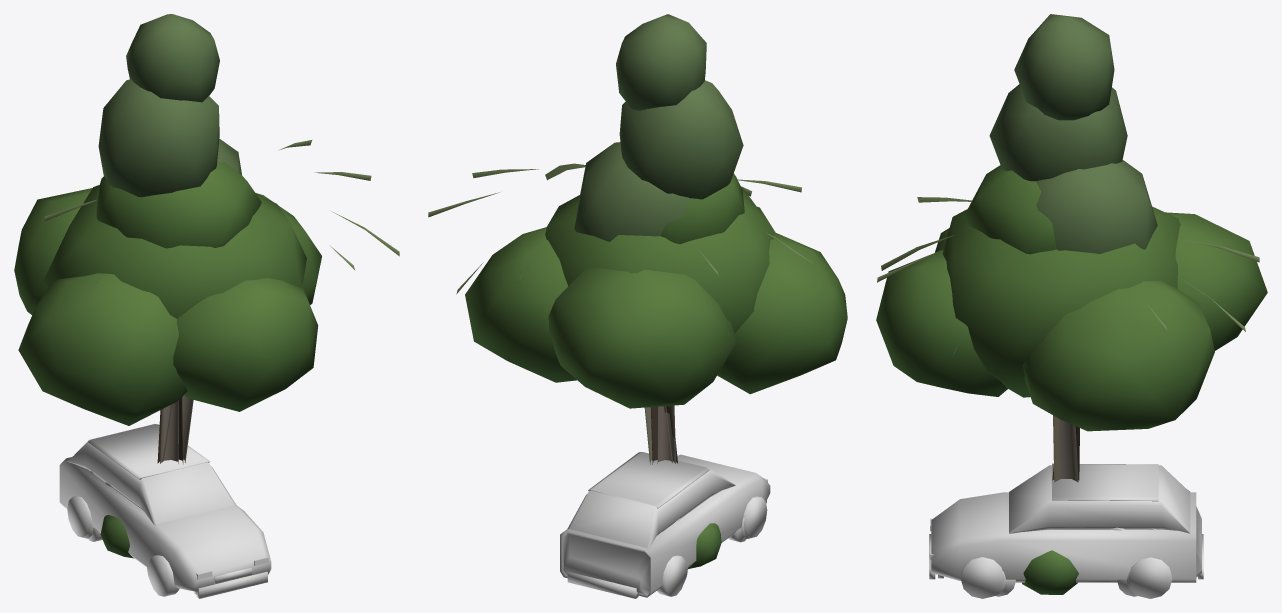
The model's file is world.glb.
3 renders of one model, left to right at view 1: azimuth 30°, elevation 25°; view 2: azimuth 150°, elevation 25°; view 3: azimuth 270°, elevation 25°, orthographic. The views are drawn at different scales.
Parts seen in each view (by area): view 1: Tree1, Tree2, Car2_Body, Car2_Glass, Car2_Trim, Tree3, Bush; view 2: Tree1, Tree2, Car2_Body, Car2_Glass, Car2_Trim, Tree3, Bush; view 3: Tree1, Tree2, Car2_Body, Car2_Glass, Car2_Trim, Tree3, Bush.
Part boxes in pixels (x1,y1,x2,y2): Tree1: (14, 162, 321, 464); Tree2: (98, 14, 241, 463); Car2_Body: (59, 424, 271, 591); Car2_Glass: (67, 424, 236, 525); Car2_Trim: (67, 496, 267, 598); Tree3: (44, 140, 399, 462); Bush: (100, 515, 134, 558); Tree1: (465, 173, 847, 464); Tree2: (574, 14, 743, 463); Car2_Body: (560, 452, 770, 597); Car2_Glass: (567, 468, 735, 548); Car2_Trim: (567, 496, 767, 598); Tree3: (428, 163, 813, 464); Bush: (688, 523, 721, 568); Tree1: (876, 165, 1267, 480); Tree2: (989, 14, 1157, 253); Car2_Body: (931, 463, 1201, 582); Car2_Glass: (1009, 465, 1190, 533); Car2_Trim: (929, 534, 1203, 598); Tree3: (877, 197, 1259, 482); Bush: (1022, 550, 1078, 594).
Size of the model in its own units: 7.41 by 10.8 by 6.8.
